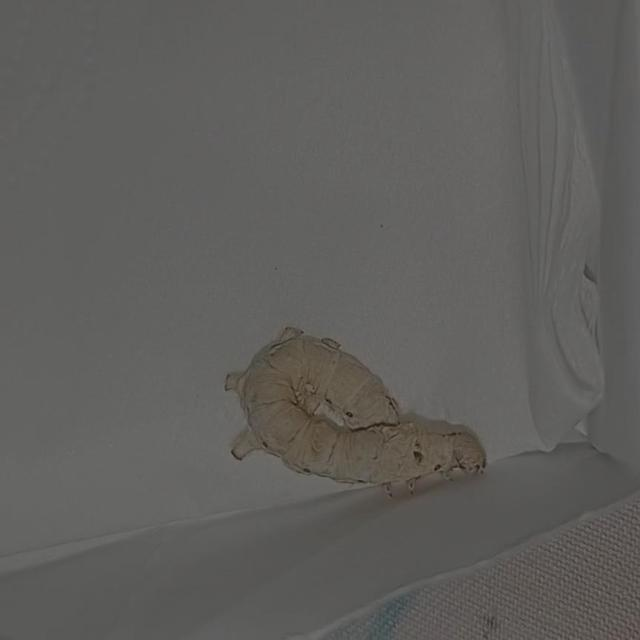Healthy: (208, 300, 530, 521)
